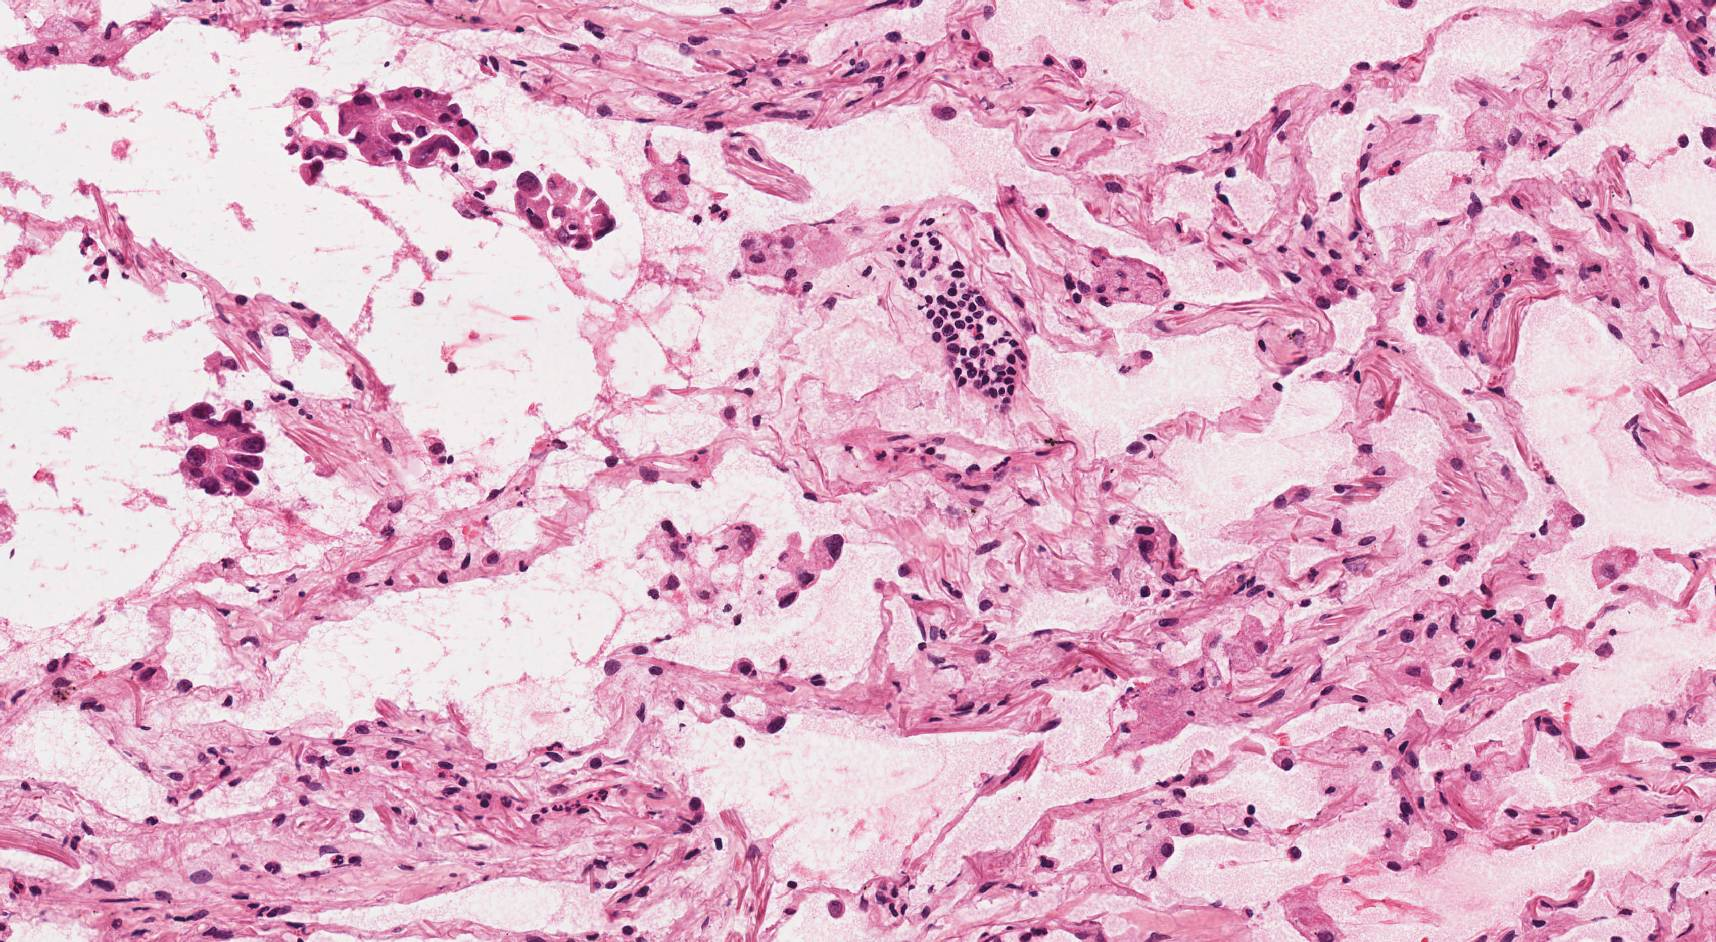stas: (293, 77, 512, 183), (169, 398, 265, 499), (516, 170, 620, 248), (774, 533, 843, 609)
